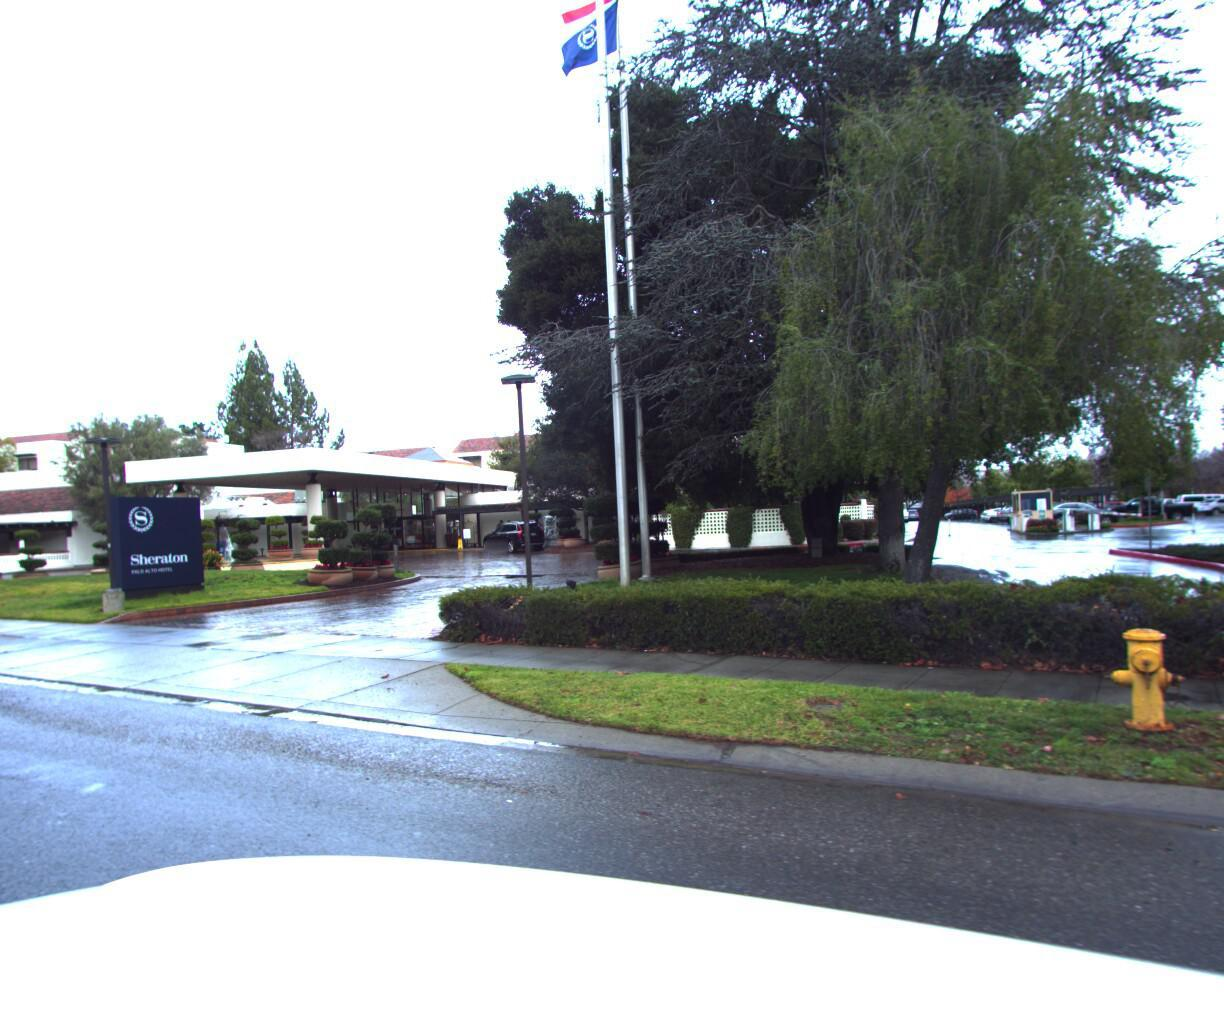car: (480, 521, 550, 553)
